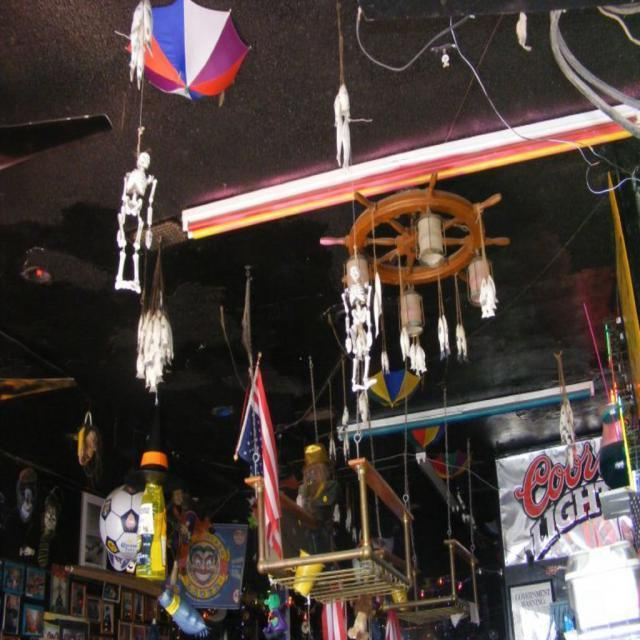ball: (96, 483, 140, 563)
